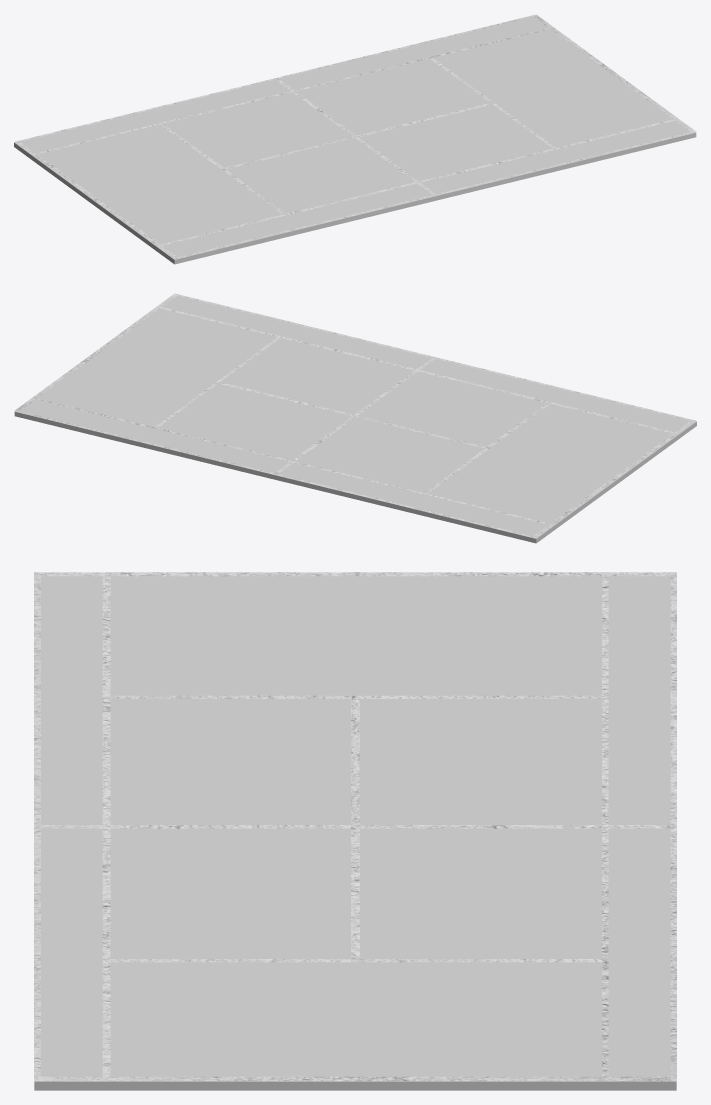
The model's file is canchanaranja.fbx.
The picture shows the model from 3 angles, top to bottom: view 1: azimuth 30°, elevation 25°; view 2: azimuth 150°, elevation 25°; view 3: azimuth 270°, elevation 25°; orthographic projection. The views are drawn at different scales.
Parts seen in each view (by area): view 1: base, lineas; view 2: base, lineas; view 3: base, lineas.
Boxes of the visible parts, box(x1,y1,x2,y2) form: base: box(14, 17, 696, 264); lineas: box(15, 14, 696, 259); base: box(14, 296, 696, 543); lineas: box(14, 293, 695, 538); base: box(34, 576, 676, 1090); lineas: box(34, 572, 676, 1081).
Bounding box in the file's own units: 6008 × 55.4 × 3201.
Materials: 2 (1 with a texture image).
